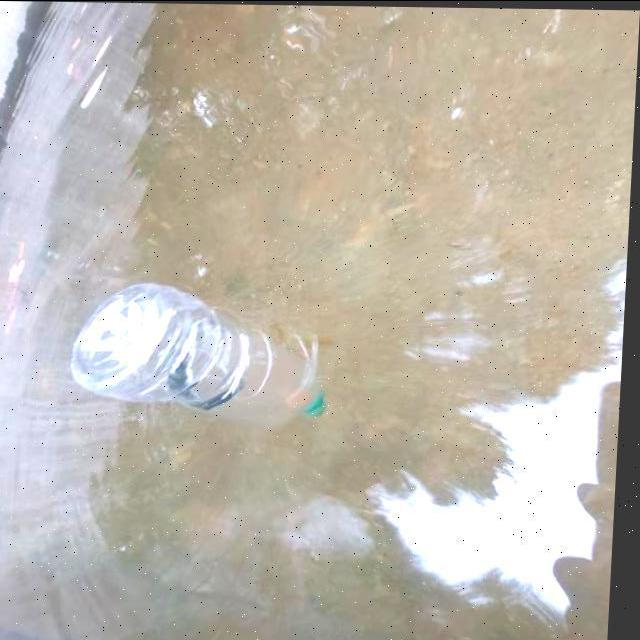Bottle: (62, 274, 350, 436)
